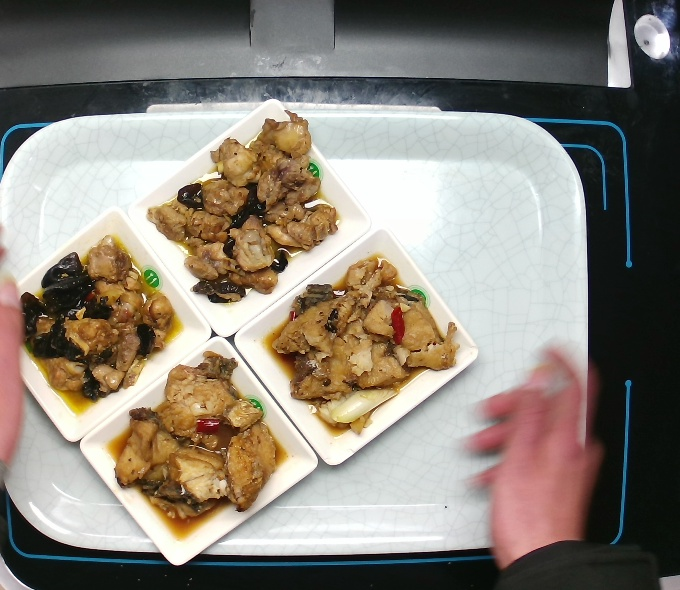wcq-MuErRouKuai: (145, 110, 344, 310), (18, 234, 184, 417)
wcq-YuKuai: (275, 251, 464, 444), (106, 350, 296, 538)
